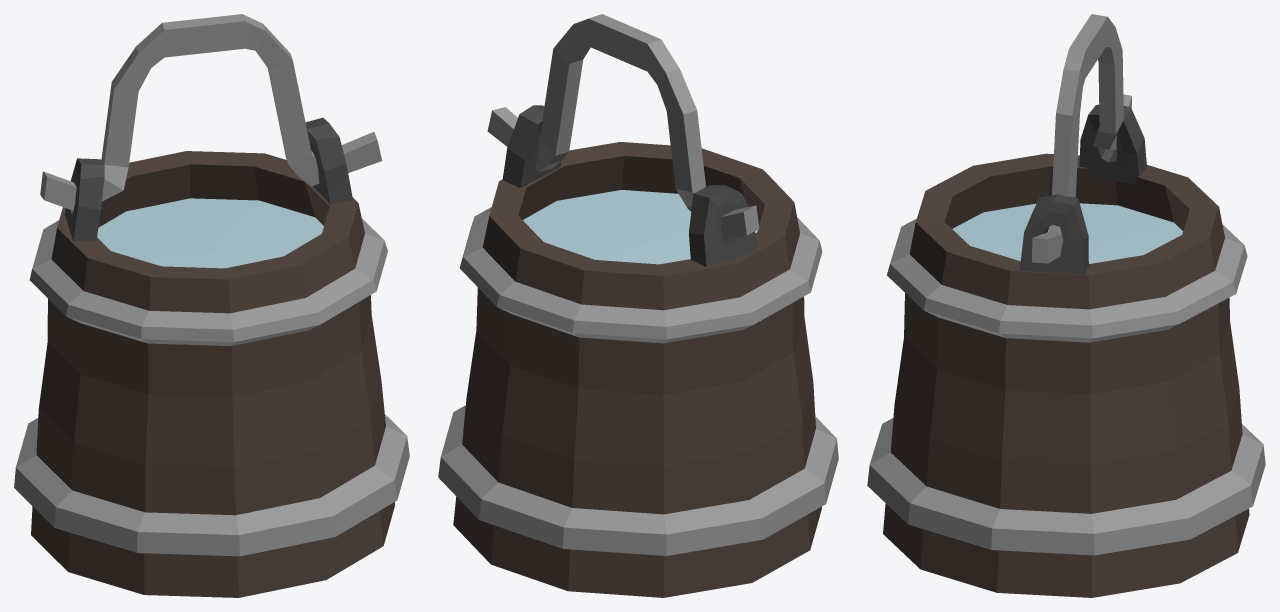
Rendered from Bucket_1.fbx.
3 renders of one model, left to right at view 1: azimuth 30°, elevation 25°; view 2: azimuth 150°, elevation 25°; view 3: azimuth 270°, elevation 25°, orthographic.
Visible parts, largest first — view 1: Bucket_1; view 2: Bucket_1; view 3: Bucket_1.
Part boxes in pixels (x1,y1,x2,y2): Bucket_1: [14, 14, 409, 597]; Bucket_1: [438, 14, 838, 597]; Bucket_1: [867, 14, 1265, 597].
Size of the model in its own units: 41.52 by 41.52 by 57.15.
